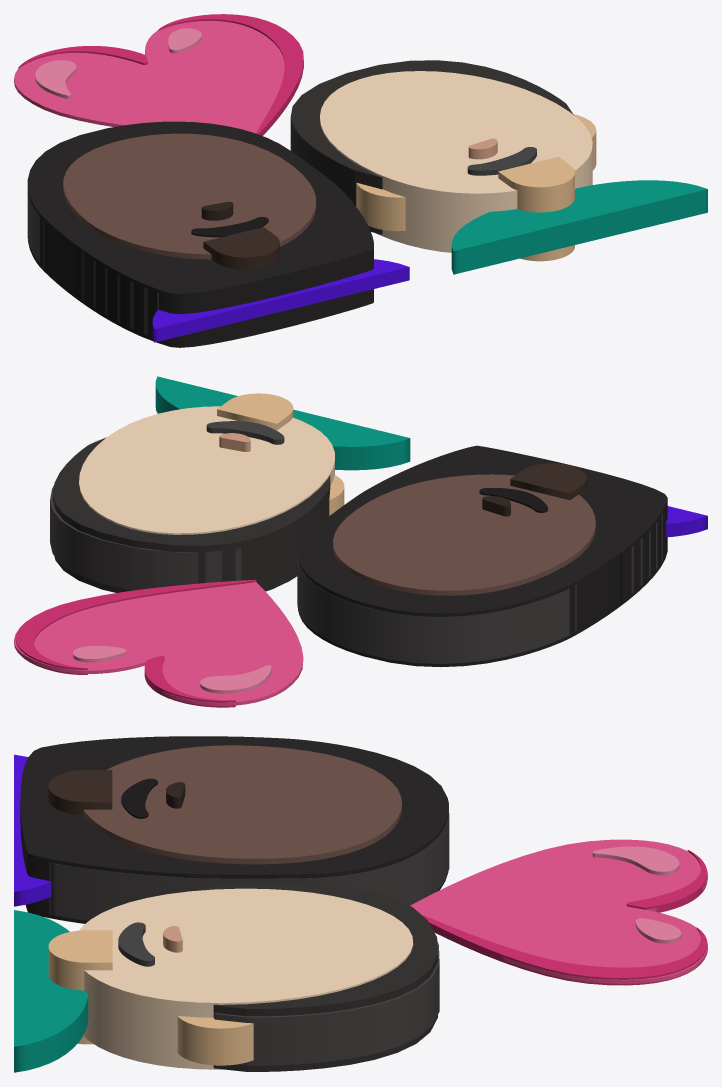
The model's file is emoji_u1f469_1f3ff_200d_2764_200d_1f468_1f3fb.glb.
The picture shows the model from 3 angles, top to bottom: view 1: azimuth 30°, elevation 25°; view 2: azimuth 150°, elevation 25°; view 3: azimuth 270°, elevation 25°; orthographic projection. The views are drawn at different scales.
Visible parts, largest first — view 1: emoji_u1f469_1f3ff_200d_2764_200d_1f468_1f3fb; view 2: emoji_u1f469_1f3ff_200d_2764_200d_1f468_1f3fb; view 3: emoji_u1f469_1f3ff_200d_2764_200d_1f468_1f3fb.
Boxes of the visible parts, box(x1,y1,x2,y2) form: emoji_u1f469_1f3ff_200d_2764_200d_1f468_1f3fb: box(14, 14, 707, 347); emoji_u1f469_1f3ff_200d_2764_200d_1f468_1f3fb: box(14, 376, 707, 707); emoji_u1f469_1f3ff_200d_2764_200d_1f468_1f3fb: box(14, 736, 707, 1072).
Size of the model in its own units: 0.0345 by 0.005 by 0.0339.
